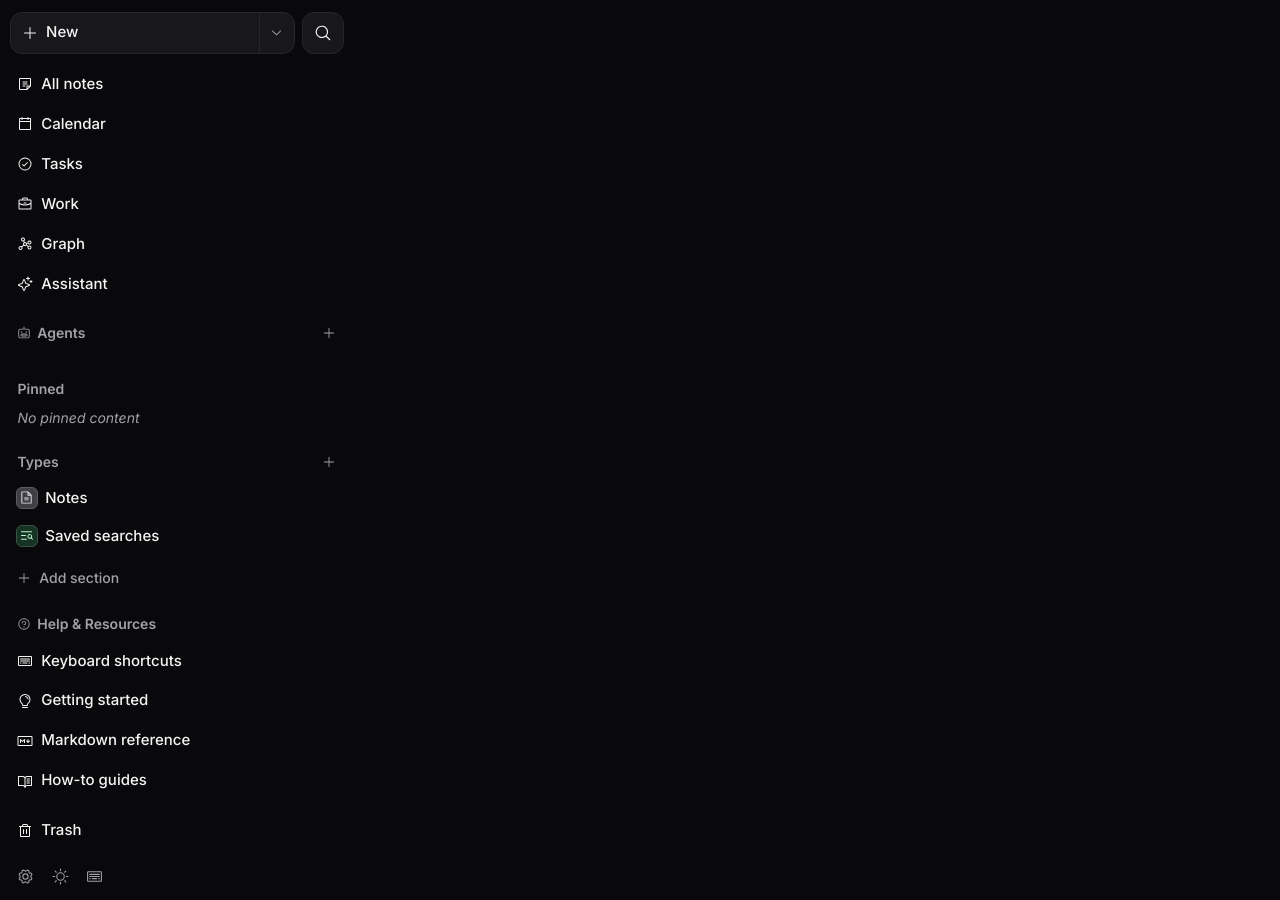
it: Help & Resources (sidebar) › gettingStarted opens read-only, with no request off this machine and no write
The width and height of the screenshot is (1280, 900).
Click the button "Getting started": (95, 700) [10, 682, 344, 720]
(page scrolled)
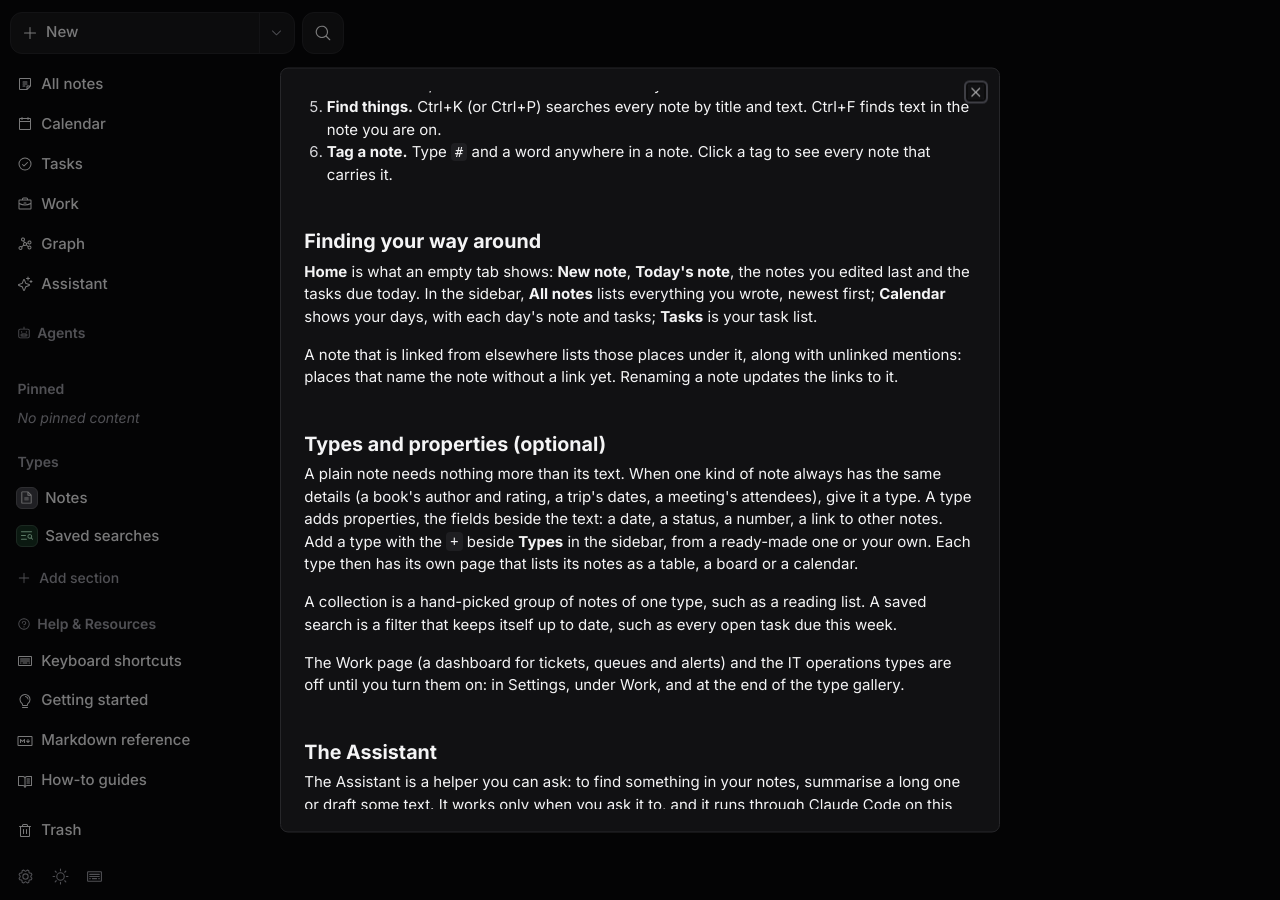
Press Escape
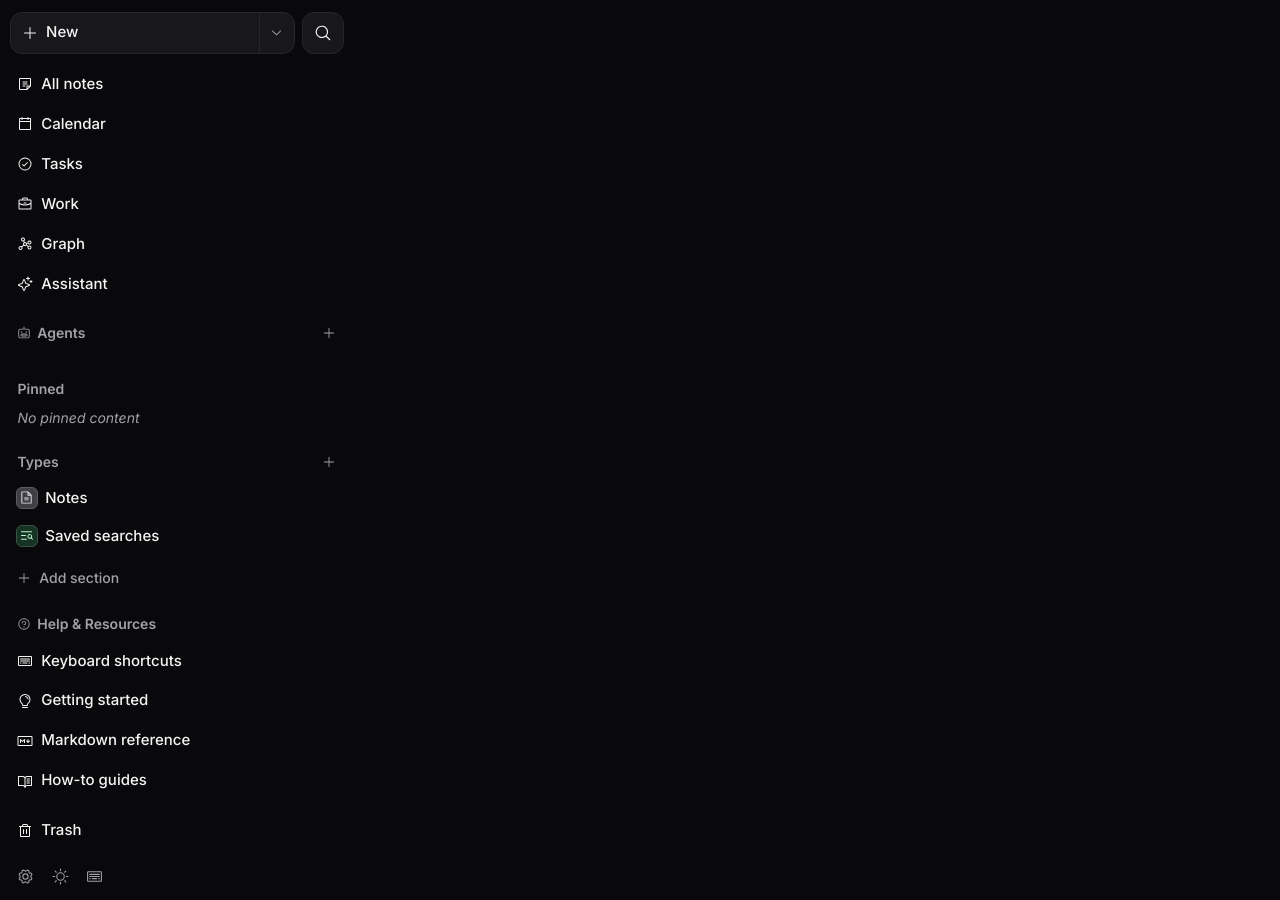
Check: the dialog is gone
